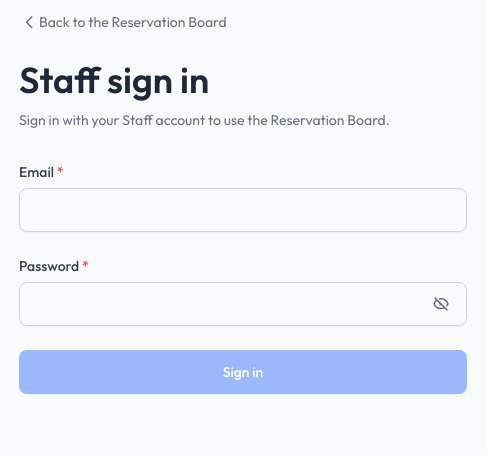
SignInForm (Staff mode) › sends one request however often the form is submitted while one is pending; the eye button never submits
This screenshot has width=487, height=455.
In the field labelled "Email *": (243, 210) [19,188,467,232], type "desk@example.com"
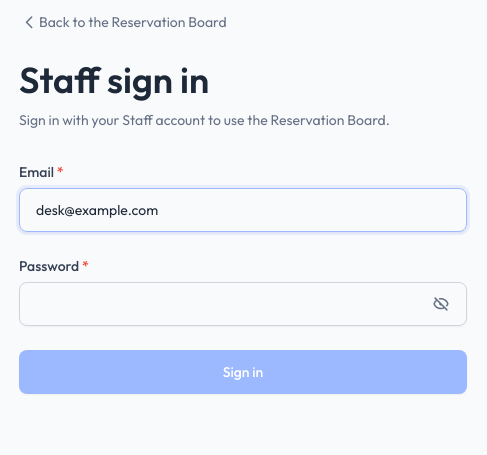
In the password field labelled "Password *": (243, 304) [19,282,467,326], type "Secret!a1x"
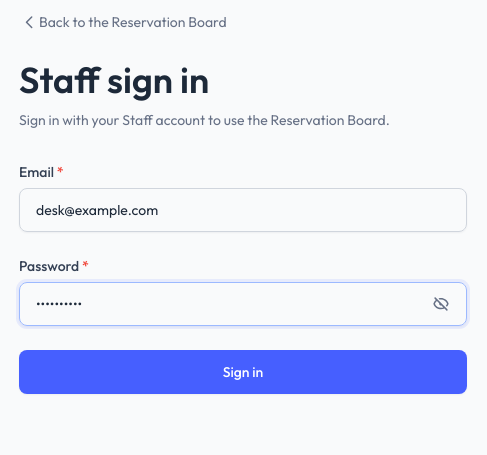
Click the button named "Show password": (441, 304) [431,294,451,314]
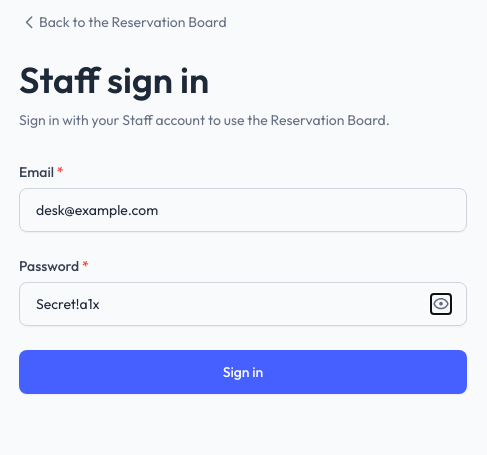
Expected: the field labelled "Password *" shows its text, [19,282,467,326]
Click the button "Sign in": (243, 372) [19,350,467,394]
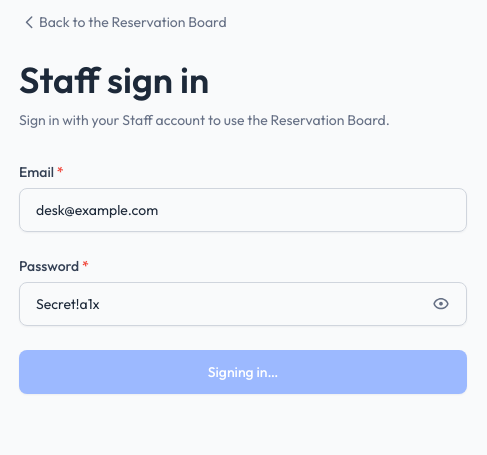
Click the button "Signing in…": (243, 372) [19,350,467,394]
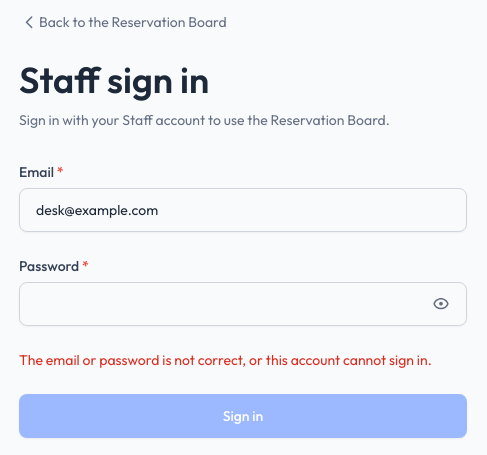
Expected: the message "The email or password is not correct, or this account cannot sign in." is shown, [19,350,467,370]
